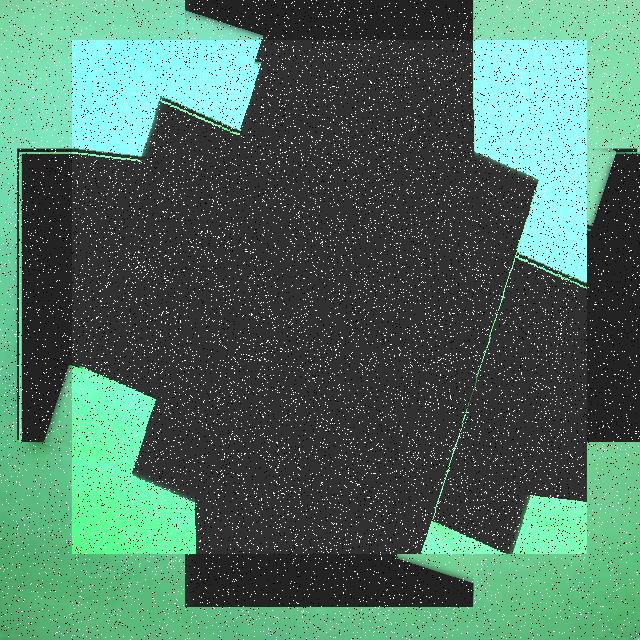lima puluh ribu rupiah: (72, 40, 587, 554)
